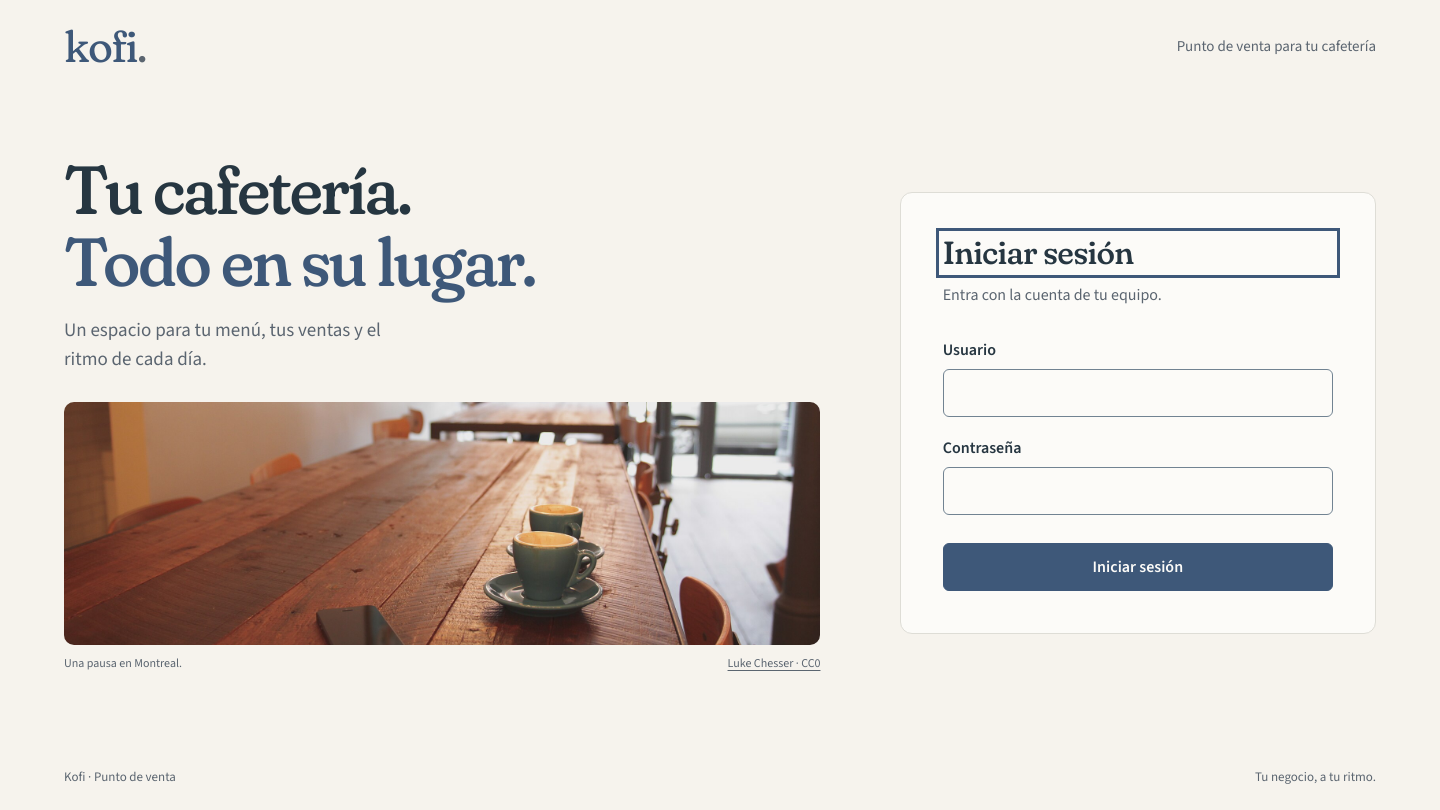
Test: un fallo inesperado al iniciar sesión libera el formulario sin conceder acceso
Type "operador-demo" into the field labelled "Usuario" at (1138, 393), box [943,369,1333,417]
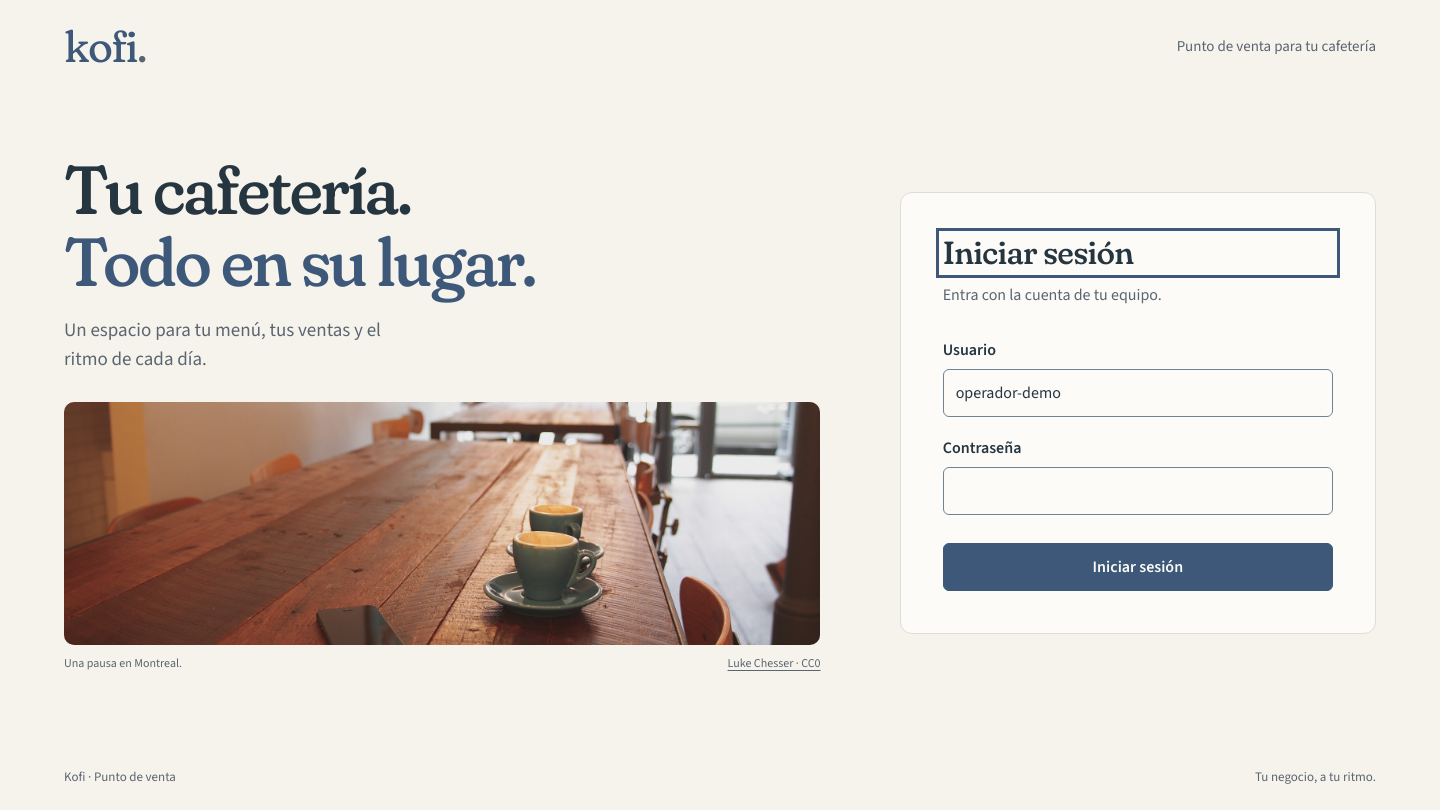
Type "solo-simulacion" into the password field labelled "Contraseña" at (1138, 491), box [943,467,1333,515]
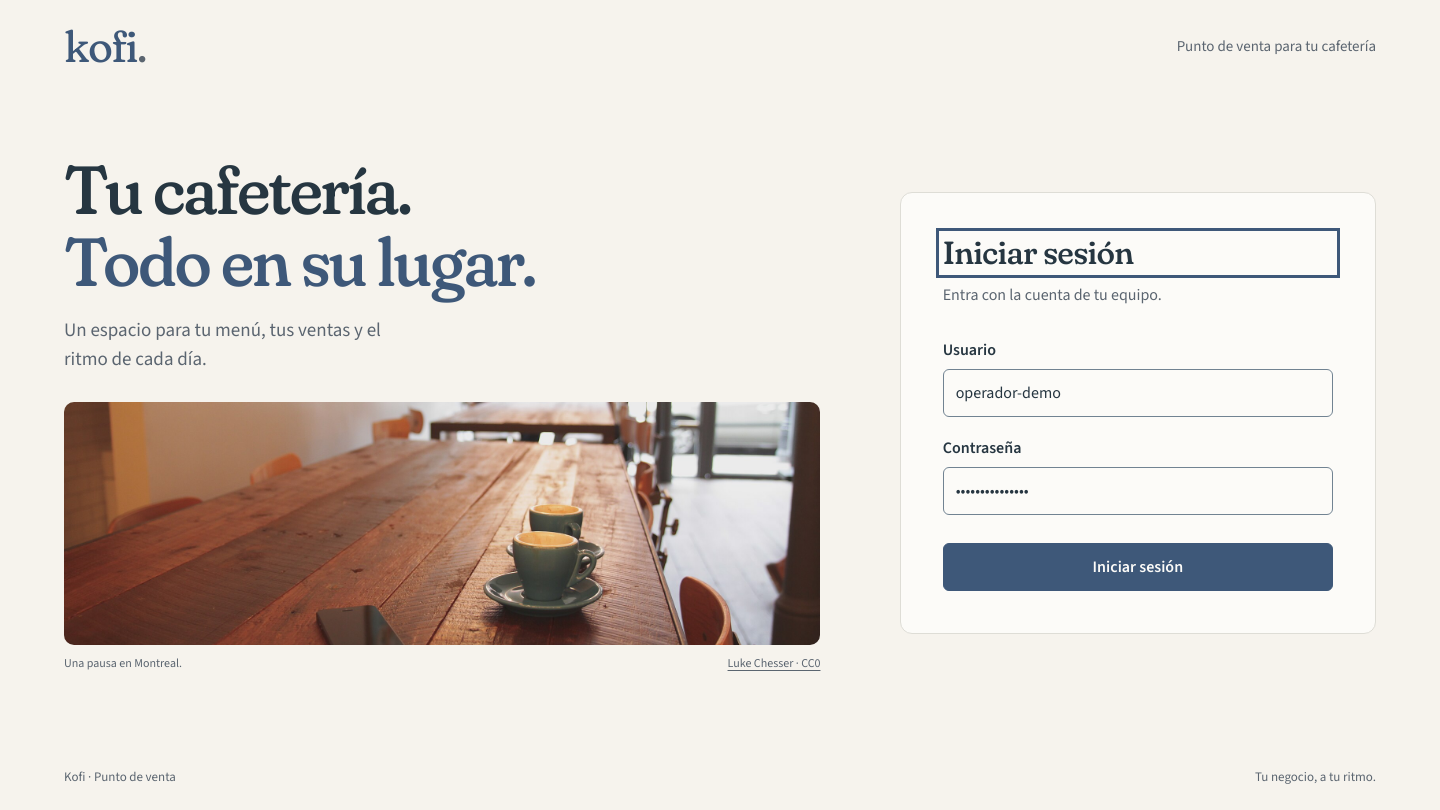
Click the button "Iniciar sesión" at (1138, 567), box [943,543,1333,591]
Wait 650 ms
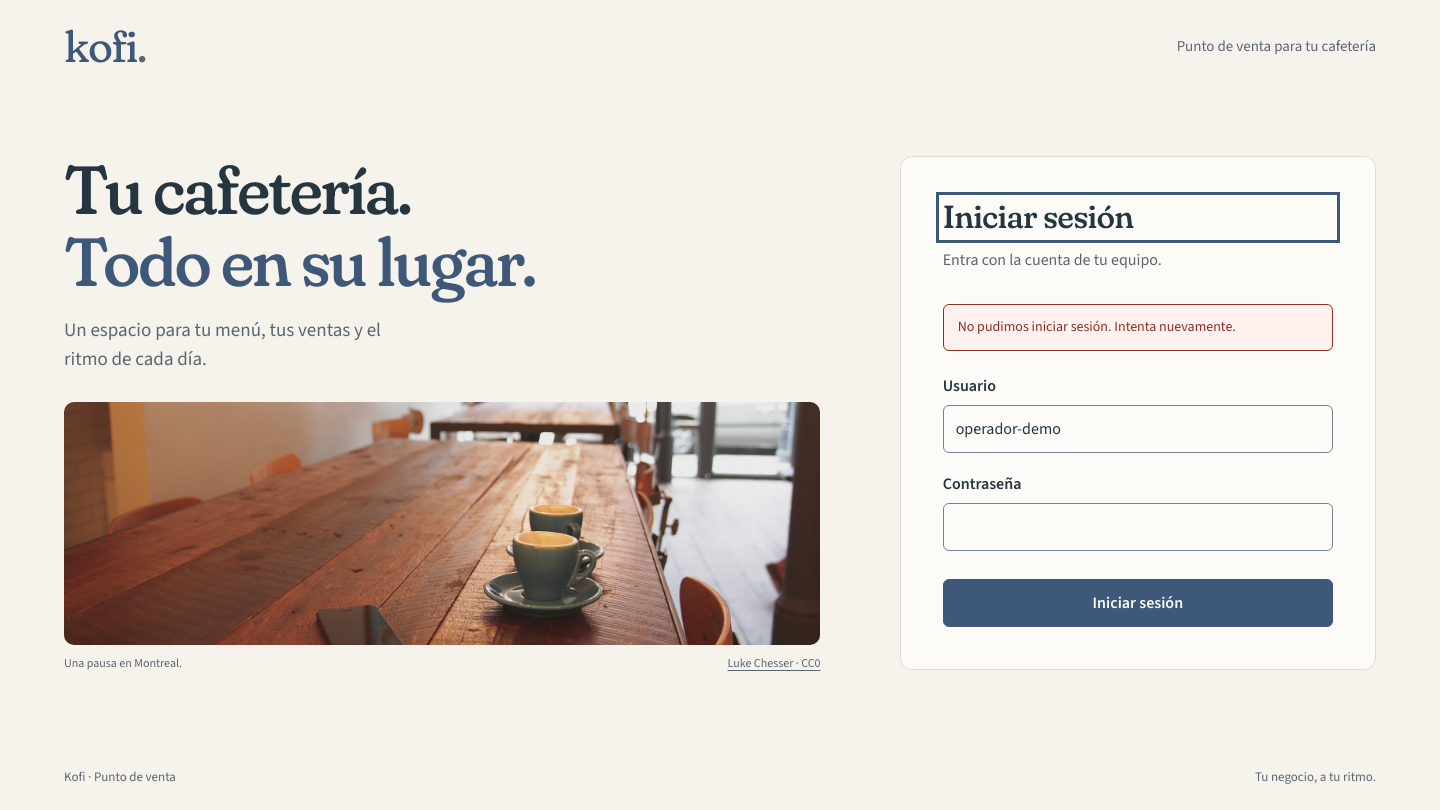
Expected: the button "Iniciar sesión" is enabled, [943,579,1333,627]
Expected: the message shows "No pudimos iniciar sesión", [958,317,1236,337]
Expected: the password field labelled "Contraseña" is empty, [943,503,1333,551]
